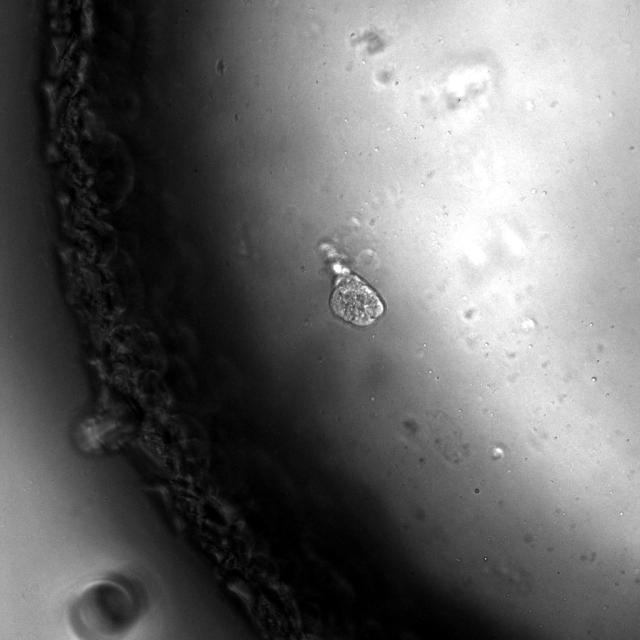organoid: (318, 240, 385, 327)
